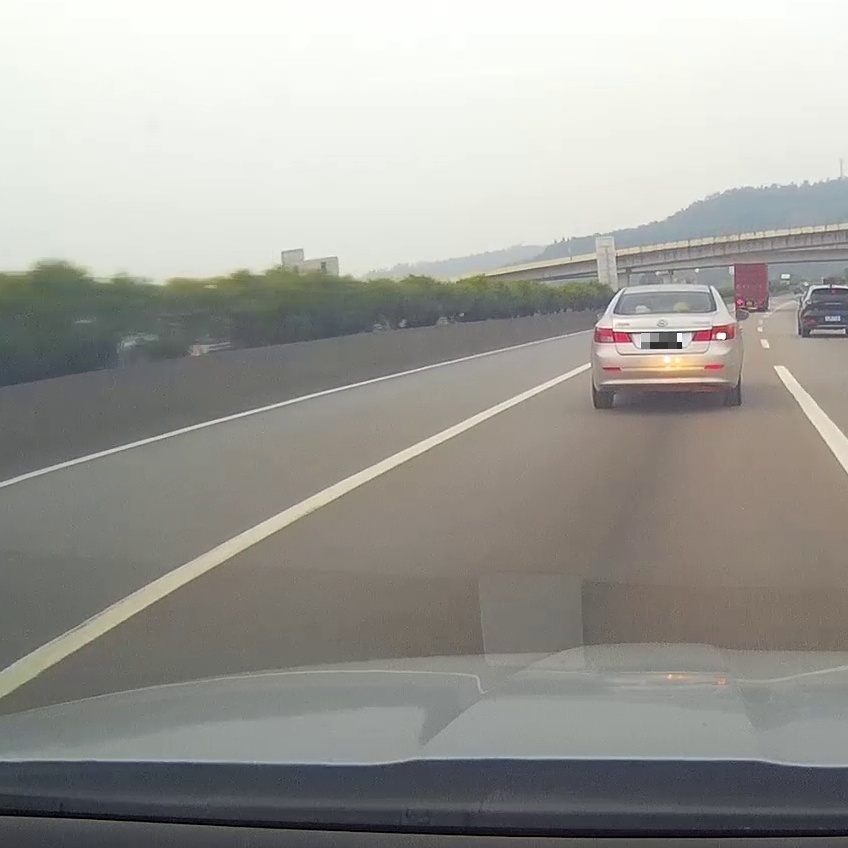L_light: (593, 326, 632, 343)
R_light: (691, 323, 734, 341)
T_light: (653, 292, 672, 297)
day-right: (591, 284, 743, 409)
plate_1: (641, 333, 682, 349)
